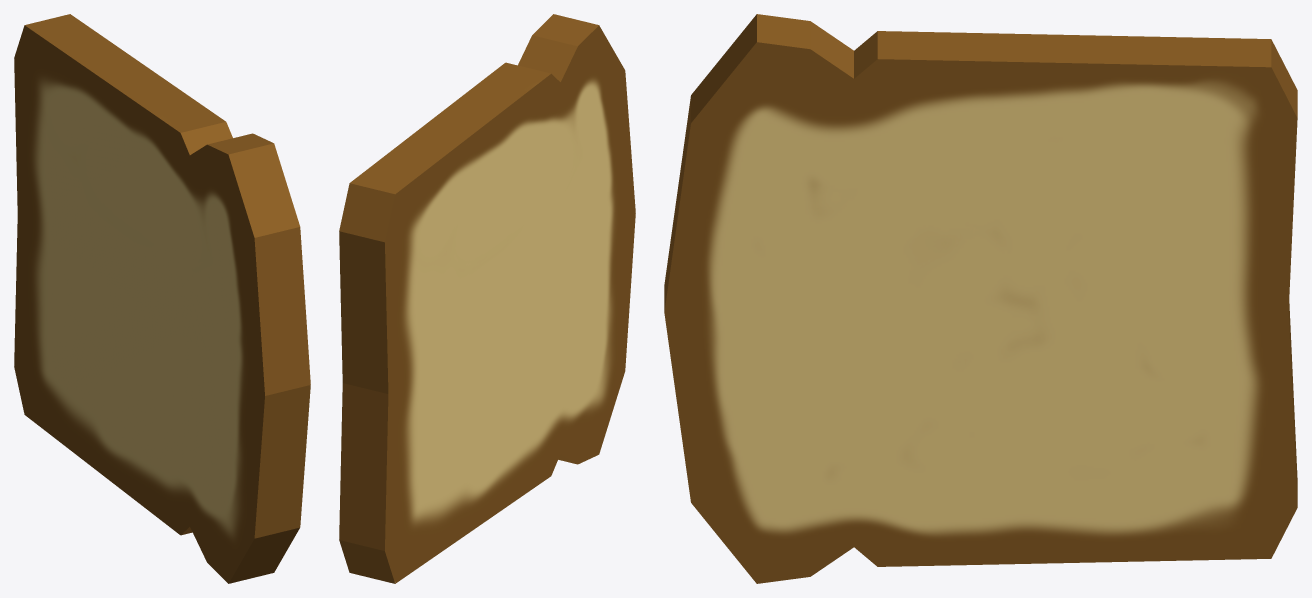
Rendered from toast (4).fbx.
3 renders of one model, left to right at view 1: azimuth 30°, elevation 25°; view 2: azimuth 150°, elevation 25°; view 3: azimuth 270°, elevation 25°, orthographic. The views are drawn at different scales.
Parts seen in each view (by area): view 1: Cube; view 2: Cube; view 3: Cube.
Part boxes in pixels (x1,y1,x2,y2): Cube: (14, 14, 310, 583); Cube: (339, 14, 635, 583); Cube: (664, 14, 1297, 583).
Bounding box in the file's own units: 7.43 × 66.66 × 70.6.
Materials: 1 (1 with a texture image).
